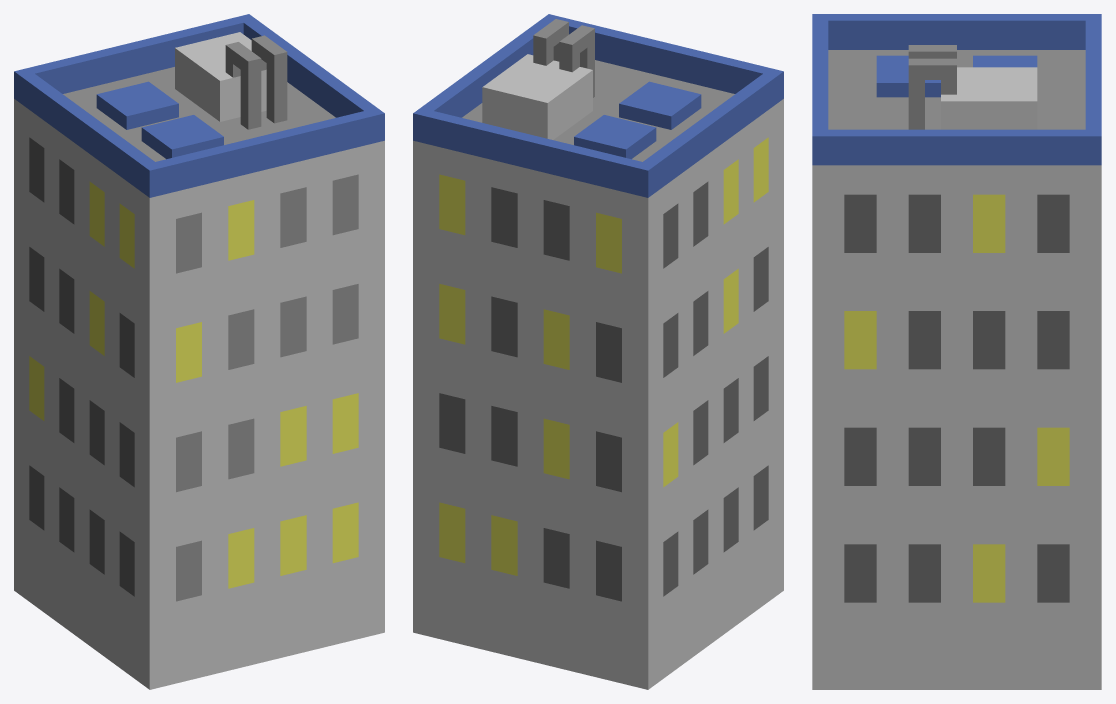
File: building1.glb
3 views of the same model, side by side, from view 1: azimuth 30°, elevation 25°; view 2: azimuth 150°, elevation 25°; view 3: azimuth 270°, elevation 25° (orthographic). The views are drawn at different scales.
Size of the model in its own units: 18 by 41 by 18.
Materials: 1 (1 with a texture image).
